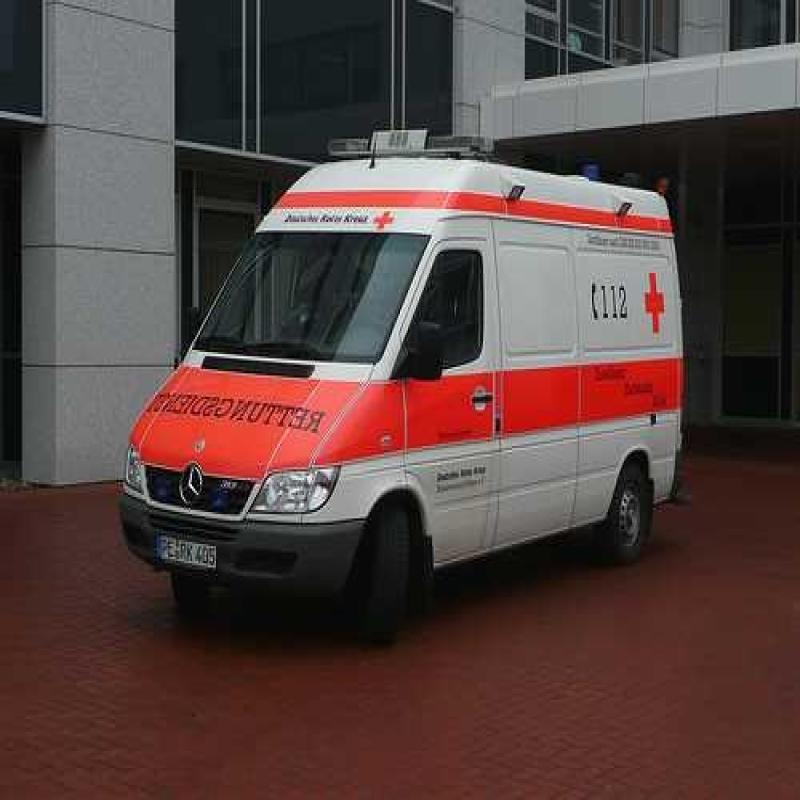AmbulanceSiren: (322, 121, 489, 164)
